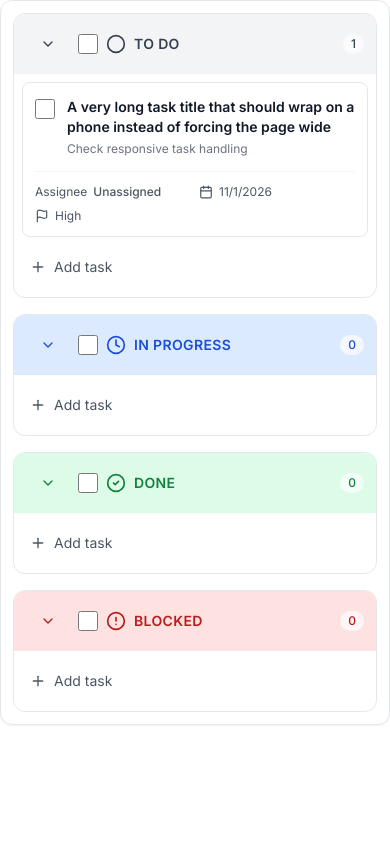
Test: ListView mobile layout › keeps task selection available for bulk actions on phones
Click the checkbox named "Select A very long task title that should wrap on a phone in": point(45, 109) [35,99,55,119]
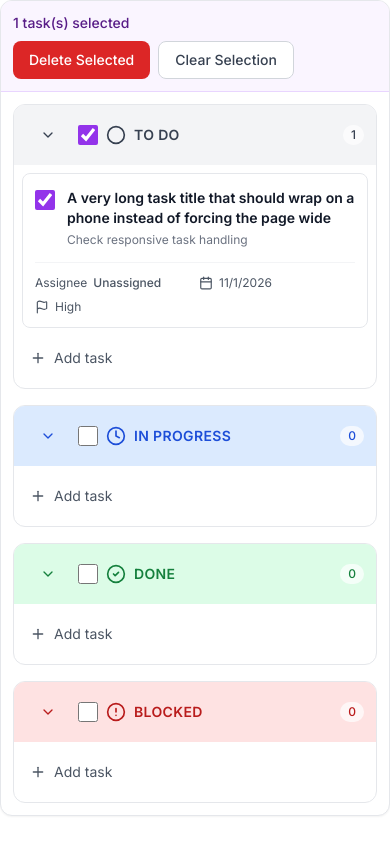
Expected: the text "1 task(s) selected" is shown, [13,13,129,33]
